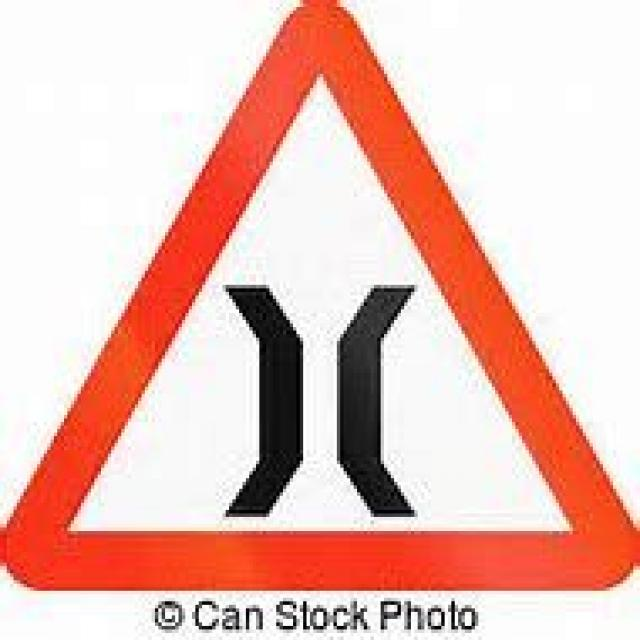NARROW_BRIDGE: (0, 0, 637, 584)
